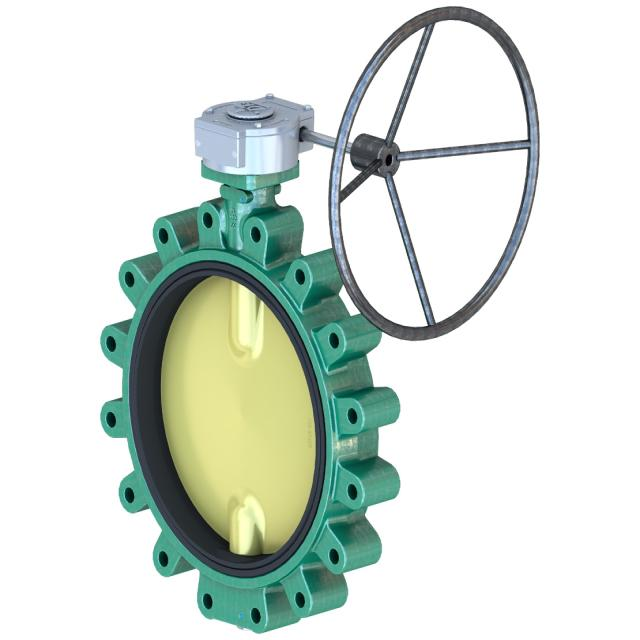Wheel Handle Valve Threaded: (312, 0, 550, 342)
